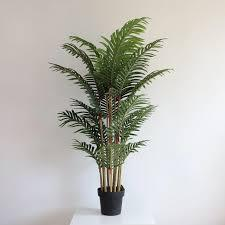Indoor Plant: (49, 15, 171, 214)
